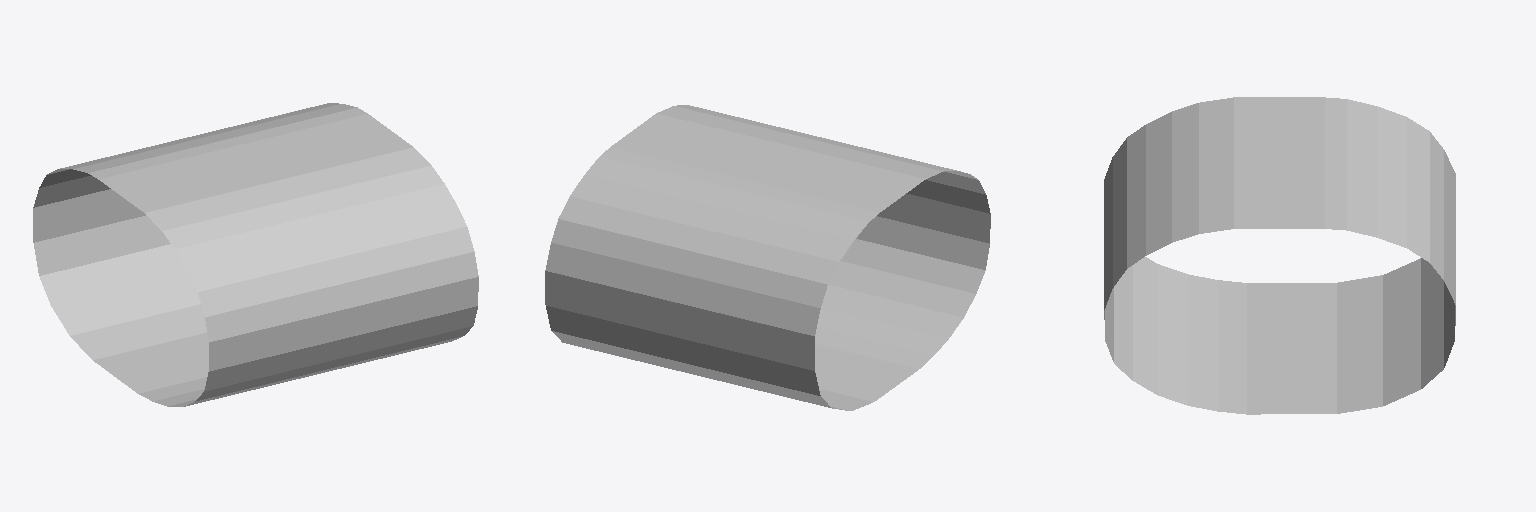
The model's file is main body1.obj.
3 renders of one model, left to right at view 1: azimuth 30°, elevation 25°; view 2: azimuth 150°, elevation 25°; view 3: azimuth 270°, elevation 25°, orthographic.
Parts seen in each view (by area): view 1: trigger_edges?_Cube.004; view 2: trigger_edges?_Cube.004; view 3: trigger_edges?_Cube.004.
Part boxes in pixels (left/top/right/bottom): trigger_edges?_Cube.004: left=33, top=103, right=478, bottom=406; trigger_edges?_Cube.004: left=545, top=105, right=990, bottom=410; trigger_edges?_Cube.004: left=1104, top=97, right=1455, bottom=414.
Bounding box in the file's own units: 0.9578 × 0.6296 × 1.08.